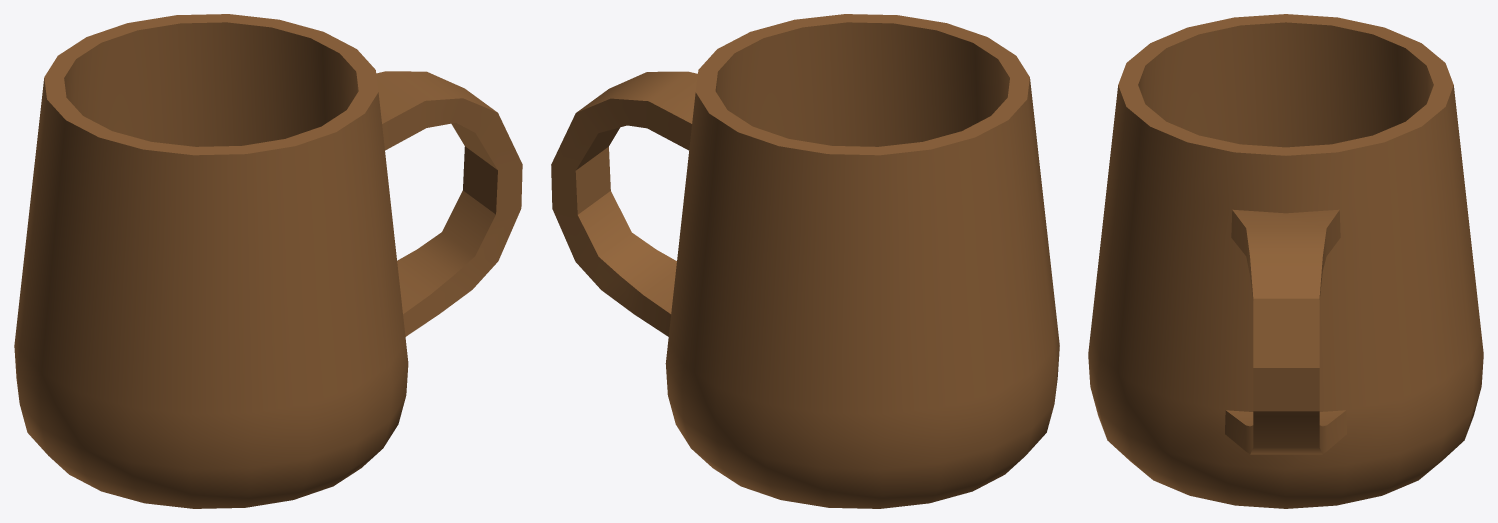
File: Mug.fbx
The picture shows the model from 3 angles, left to right: view 1: azimuth 30°, elevation 25°; view 2: azimuth 150°, elevation 25°; view 3: azimuth 270°, elevation 25°; orthographic projection.
Visible parts, largest first — view 1: pCylinder1; view 2: pCylinder1; view 3: pCylinder1.
Boxes of the visible parts, x1,y1,x2,y2 form: pCylinder1: [14, 14, 522, 508]; pCylinder1: [551, 14, 1059, 508]; pCylinder1: [1088, 14, 1483, 508].
Size of the model in its own units: 38.47 by 28 by 28.3.
